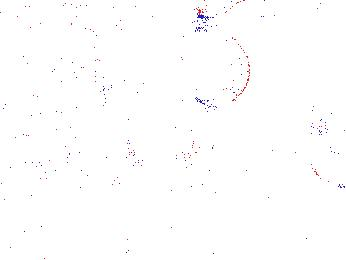moon jellyfish: (88, 11, 191, 72), (125, 92, 195, 179), (188, 26, 251, 109), (250, 25, 326, 87), (305, 111, 346, 187)
